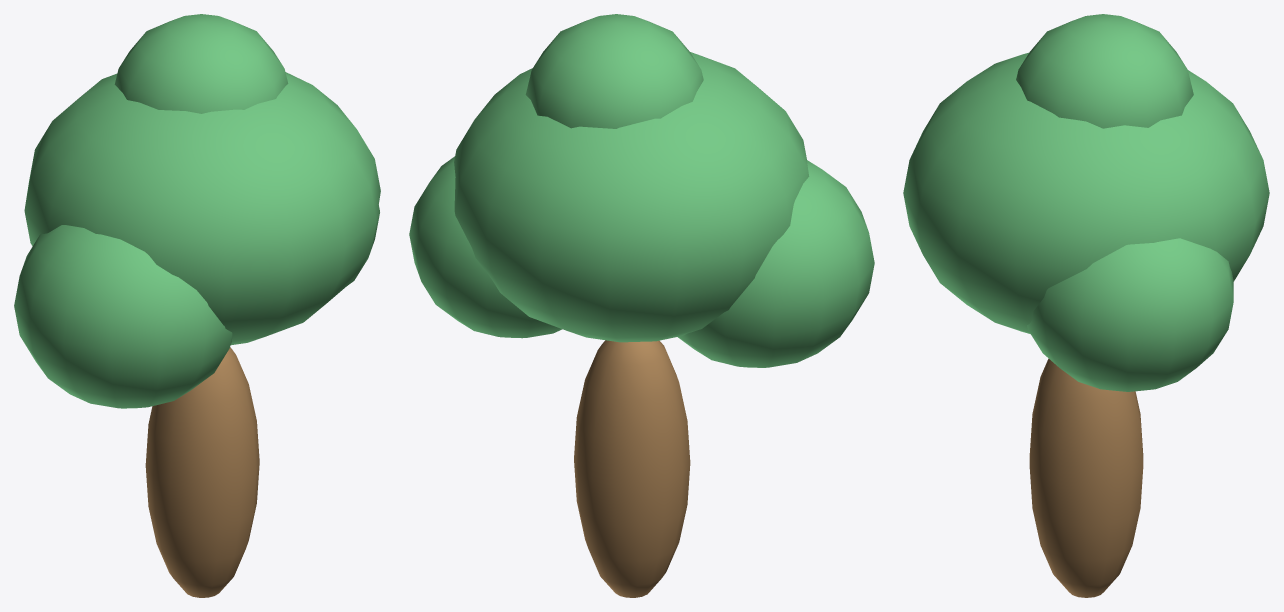
File: tree.glb
3 renders of one model, left to right at view 1: azimuth 30°, elevation 25°; view 2: azimuth 150°, elevation 25°; view 3: azimuth 270°, elevation 25°, orthographic. The views are drawn at different scales.
Parts seen in each view (by area): view 1: FoliageMain, FoliageLeft, Trunk, FoliageTop; view 2: FoliageMain, Trunk, FoliageLeft, FoliageTop, FoliageRight; view 3: FoliageMain, FoliageRight, Trunk, FoliageTop.
Part boxes in pixels (x1,y1,x2,y2): FoliageMain: (24, 72, 380, 345); FoliageLeft: (14, 225, 232, 408); Trunk: (145, 347, 259, 597); FoliageTop: (114, 14, 288, 113); FoliageMain: (454, 52, 809, 342); Trunk: (574, 340, 690, 597); FoliageLeft: (678, 160, 874, 367); FoliageTop: (525, 14, 703, 128); FoliageRight: (409, 156, 562, 338); FoliageMain: (903, 52, 1269, 333); FoliageRight: (1027, 238, 1233, 391); Trunk: (1029, 358, 1143, 597); FoliageTop: (1016, 14, 1193, 128).
Bounding box in the file's own units: 1.08 × 1.53 × 0.88.
